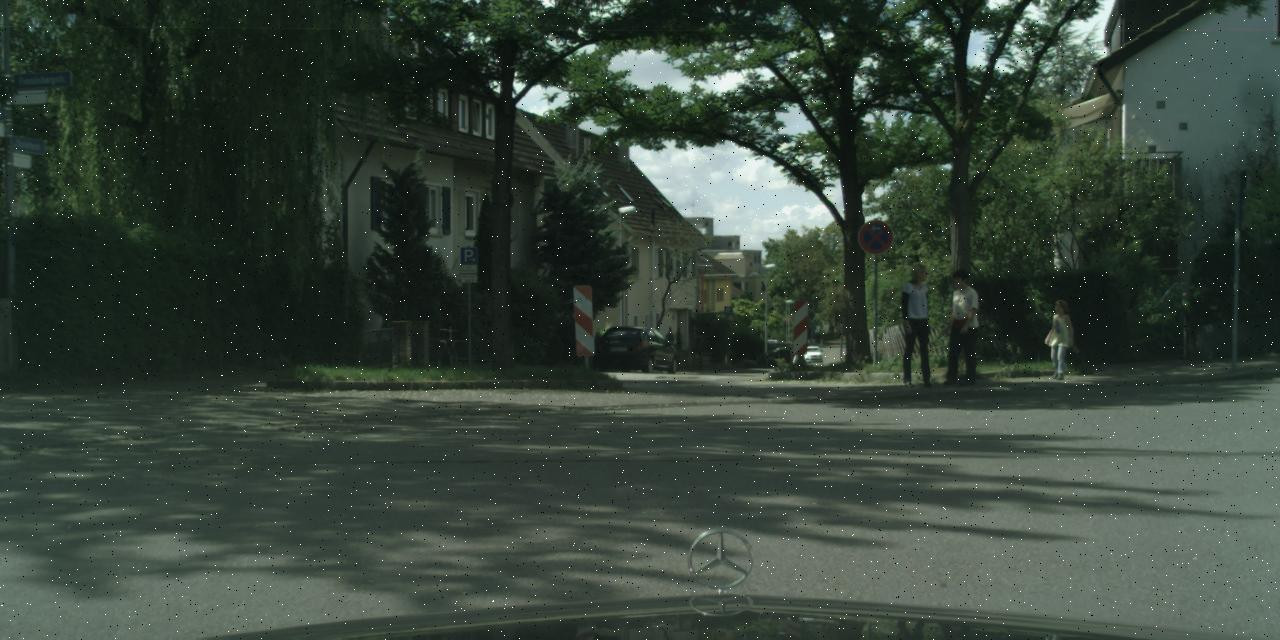ped: (893, 263, 943, 386), (937, 268, 984, 384), (1044, 298, 1076, 378)
